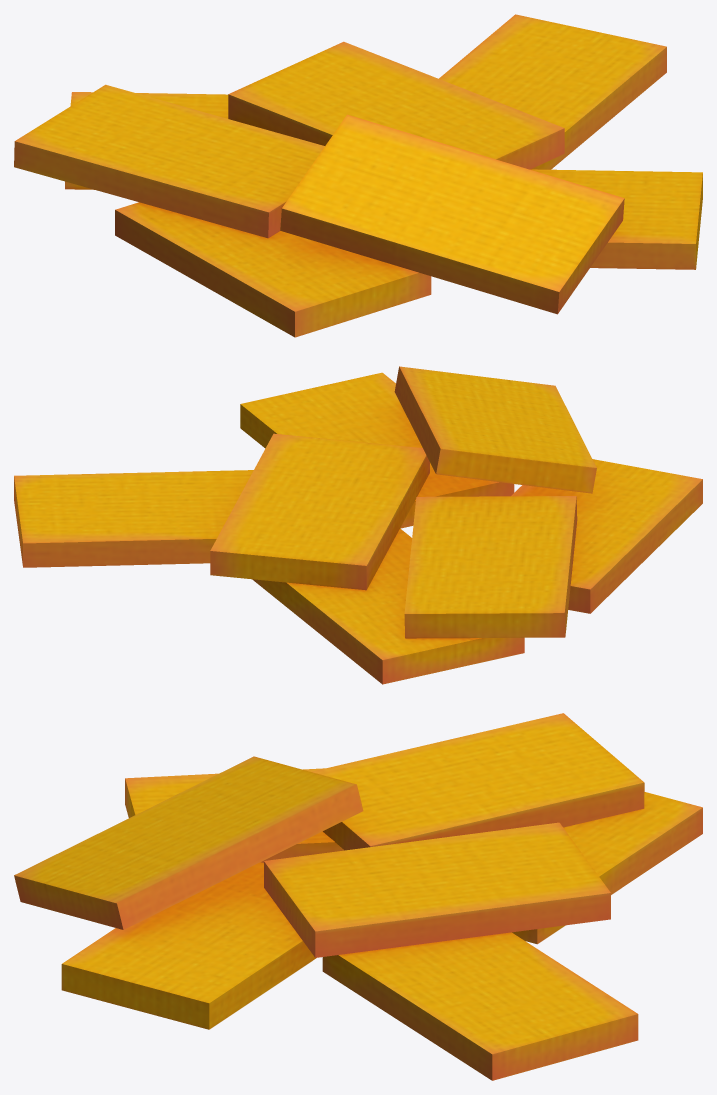
File: chem_Sponge_Pack.fbx
3 views of the same model, one above another, from view 1: azimuth 30°, elevation 25°; view 2: azimuth 150°, elevation 25°; view 3: azimuth 270°, elevation 25° (orthographic). The views are drawn at different scales.
Visible parts, largest first — view 1: Sponge_pack; view 2: Sponge_pack; view 3: Sponge_pack.
Boxes of the visible parts, bbox=[...] form: Sponge_pack: bbox=[14, 14, 702, 337]; Sponge_pack: bbox=[14, 366, 702, 684]; Sponge_pack: bbox=[14, 713, 702, 1080].
Bounding box in the file's own units: 1.42 × 0.2205 × 1.34.
